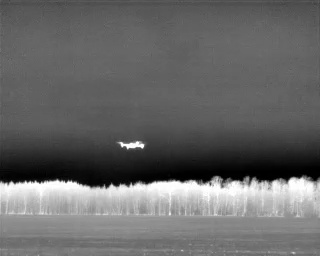DRONE: (114, 135, 150, 155)
